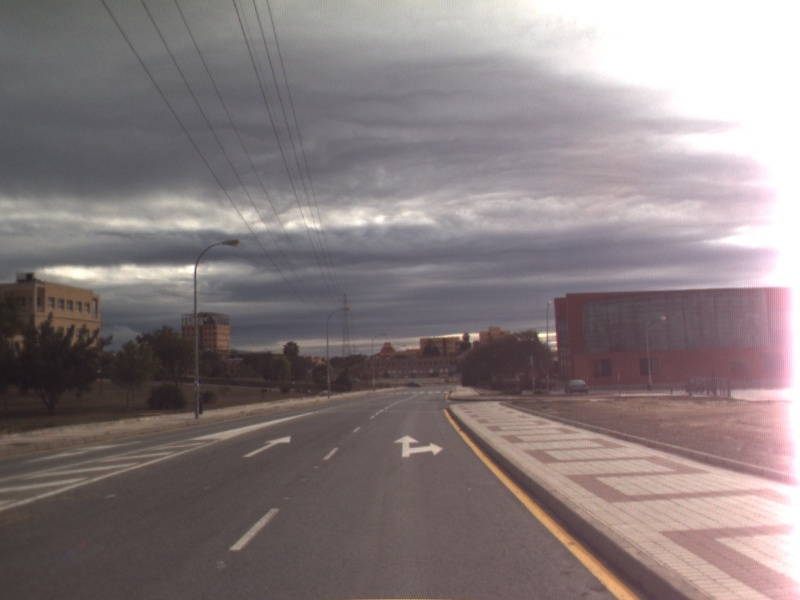STRAIGHT: (240, 433, 293, 459)
STRAIGHT_RIGHT: (392, 433, 445, 459)
